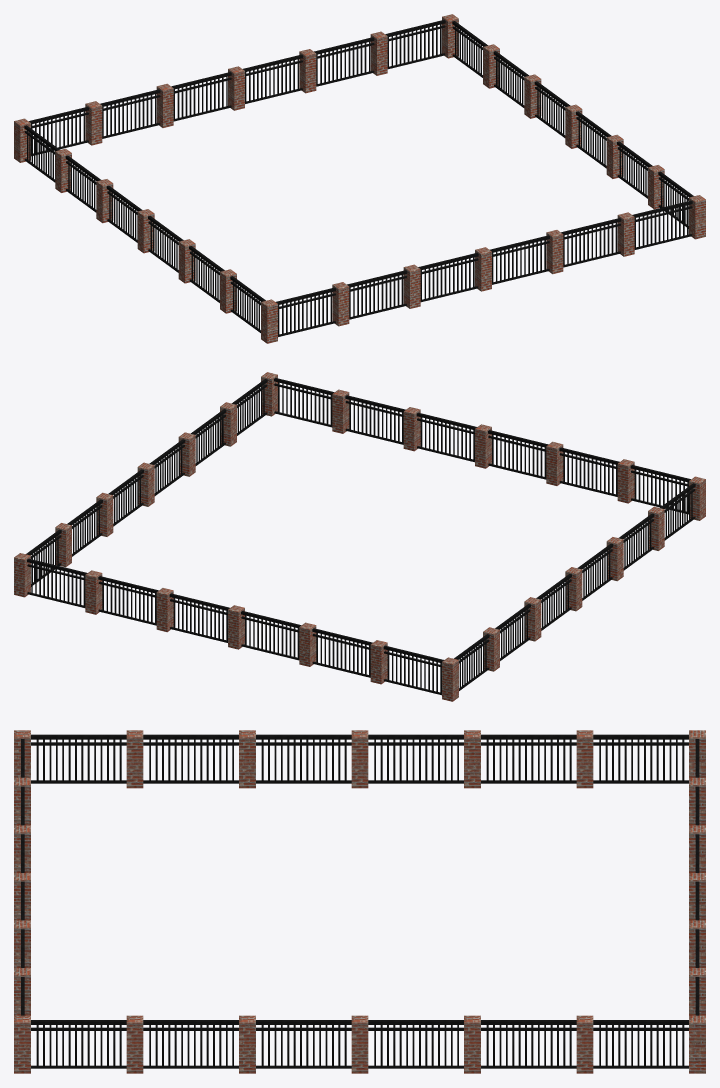
File: Fence.fbx
3 views of the same model, one above another, from view 1: azimuth 30°, elevation 25°; view 2: azimuth 150°, elevation 25°; view 3: azimuth 270°, elevation 25° (orthographic). The views are drawn at different scales.
Visible parts, largest first — view 1: Fence; view 2: Fence; view 3: Fence.
Boxes of the visible parts, x1,y1,x2,y2 form: Fence: (14,14,705,343); Fence: (14,372,705,701); Fence: (14,730,705,1073).
Size of the model in its own units: 3002 by 249 by 3002.
